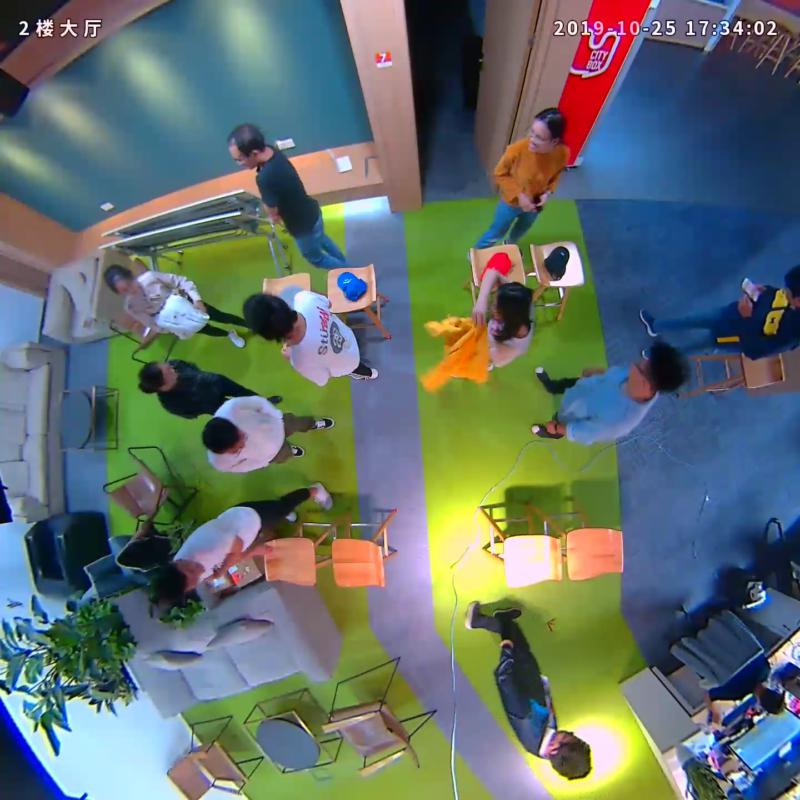head: (628, 341, 688, 395), (242, 292, 294, 338), (546, 730, 591, 781), (153, 560, 201, 601), (527, 108, 566, 156), (201, 416, 246, 456), (228, 123, 266, 168), (493, 282, 533, 318), (102, 264, 142, 297), (138, 360, 177, 391)
